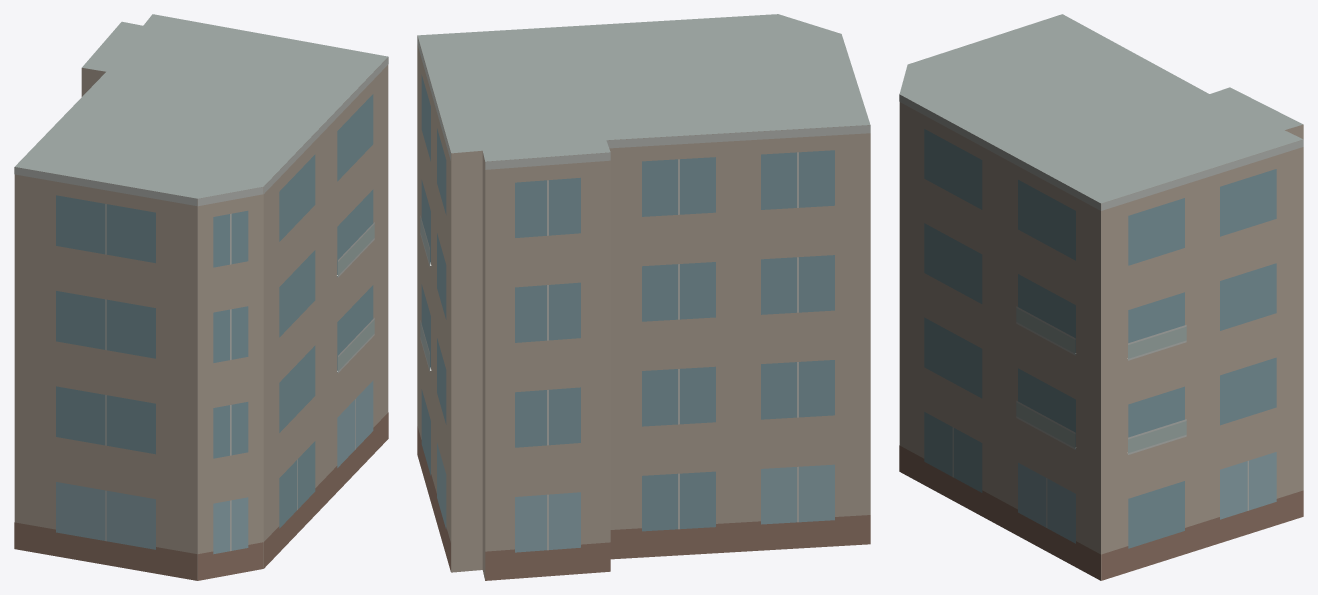
Rendered from survey-upis-32764261.glb.
The picture shows the model from 3 angles, left to right: view 1: azimuth 30°, elevation 25°; view 2: azimuth 150°, elevation 25°; view 3: azimuth 270°, elevation 25°; orthographic projection. The views are drawn at different scales.
Parts seen in each view (by area): view 1: survey-upis-32764261.tmp; view 2: survey-upis-32764261.tmp; view 3: survey-upis-32764261.tmp.
Boxes of the visible parts, x1,y1,x2,y2 form: survey-upis-32764261.tmp: (14,14,388,580); survey-upis-32764261.tmp: (417,14,870,580); survey-upis-32764261.tmp: (899,14,1303,580).
Bounding box in the file's own units: 13.26 × 12.3 × 11.95.
